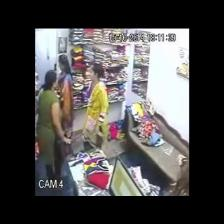person: (37, 70, 70, 178), (84, 63, 108, 148), (58, 54, 73, 137)
